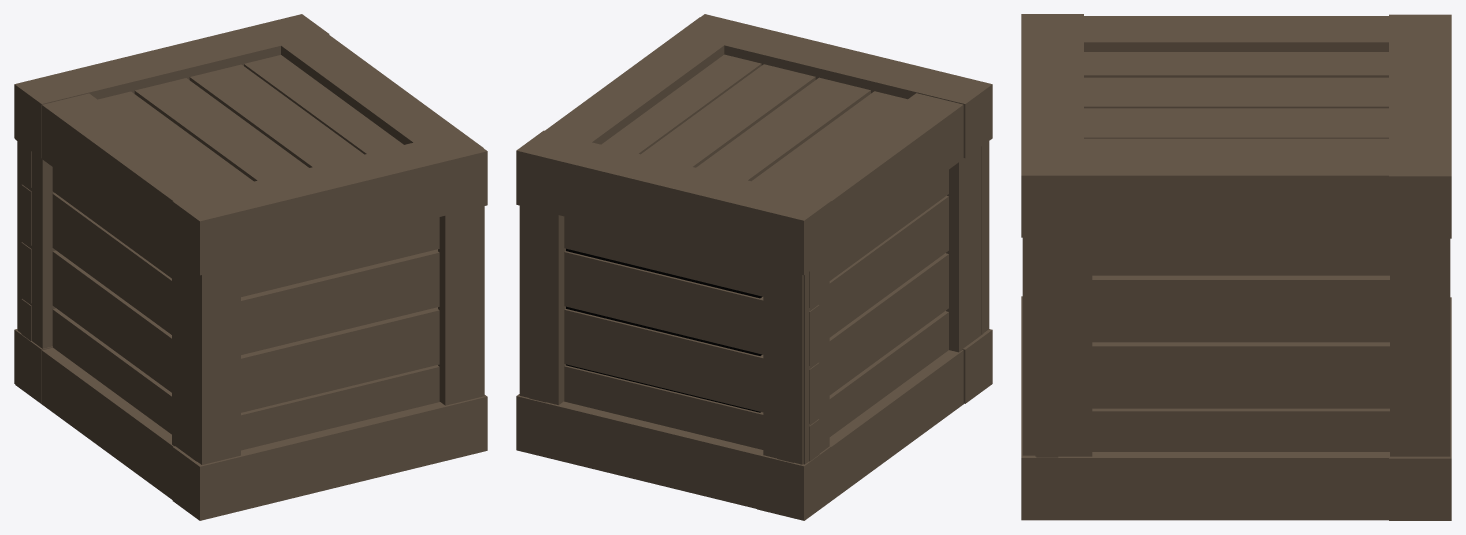
Rendered from boxProp.fbx.
3 views of the same model, side by side, from view 1: azimuth 30°, elevation 25°; view 2: azimuth 150°, elevation 25°; view 3: azimuth 270°, elevation 25° (orthographic). The views are drawn at different scales.
Visible parts, largest first — view 1: polySurface97, polySurface96, polySurface80, polySurface102, polySurface100, polySurface105, polySurface89, polySurface99, polySurface98, polySurface81, polySurface101, polySurface86 (+13 smaller); view 2: polySurface105, polySurface104, polySurface80, polySurface108, polySurface110, polySurface97, polySurface89, polySurface107, polySurface81, polySurface109, polySurface106, polySurface86 (+13 smaller); view 3: polySurface89, polySurface88, polySurface94, polySurface92, polySurface105, polySurface93, polySurface90, polySurface95, polySurface80, polySurface114, polySurface97, polySurface112 (+11 smaller).
Part boxes in pixels (x1,y1,x2,y2): polySurface97: [172, 133, 487, 275]; polySurface96: [172, 395, 487, 520]; polySurface80: [15, 93, 220, 254]; polySurface102: [241, 249, 439, 354]; polySurface100: [241, 307, 439, 412]; polySurface105: [14, 14, 329, 158]; polySurface89: [254, 14, 483, 157]; polySurface99: [194, 265, 240, 464]; polySurface98: [438, 206, 484, 405]; polySurface81: [15, 347, 174, 499]; polySurface101: [241, 365, 439, 450]; polySurface86: [52, 250, 171, 392]; polySurface105: [516, 130, 831, 274]; polySurface104: [516, 394, 831, 520]; polySurface80: [757, 93, 964, 275]; polySurface108: [564, 309, 819, 423]; polySurface110: [564, 251, 819, 365]; polySurface97: [693, 14, 992, 158]; polySurface89: [518, 17, 746, 161]; polySurface107: [519, 205, 565, 404]; polySurface81: [757, 350, 963, 520]; polySurface109: [564, 365, 819, 461]; polySurface106: [763, 265, 803, 464]; polySurface86: [829, 253, 948, 394]; polySurface89: [1031, 149, 1450, 237]; polySurface88: [1031, 452, 1444, 520]; polySurface94: [1092, 275, 1389, 342]; polySurface92: [1092, 342, 1389, 408]; polySurface105: [1389, 14, 1451, 238]; polySurface93: [1092, 408, 1389, 451]; polySurface90: [1390, 238, 1446, 456]; polySurface95: [1092, 238, 1389, 275]; polySurface80: [1084, 16, 1388, 51]; polySurface114: [1084, 77, 1388, 108]; polySurface97: [1021, 14, 1083, 237]; polySurface112: [1084, 108, 1388, 138].
Size of the model in its own units: 4.6 by 4.57 by 5.16.
